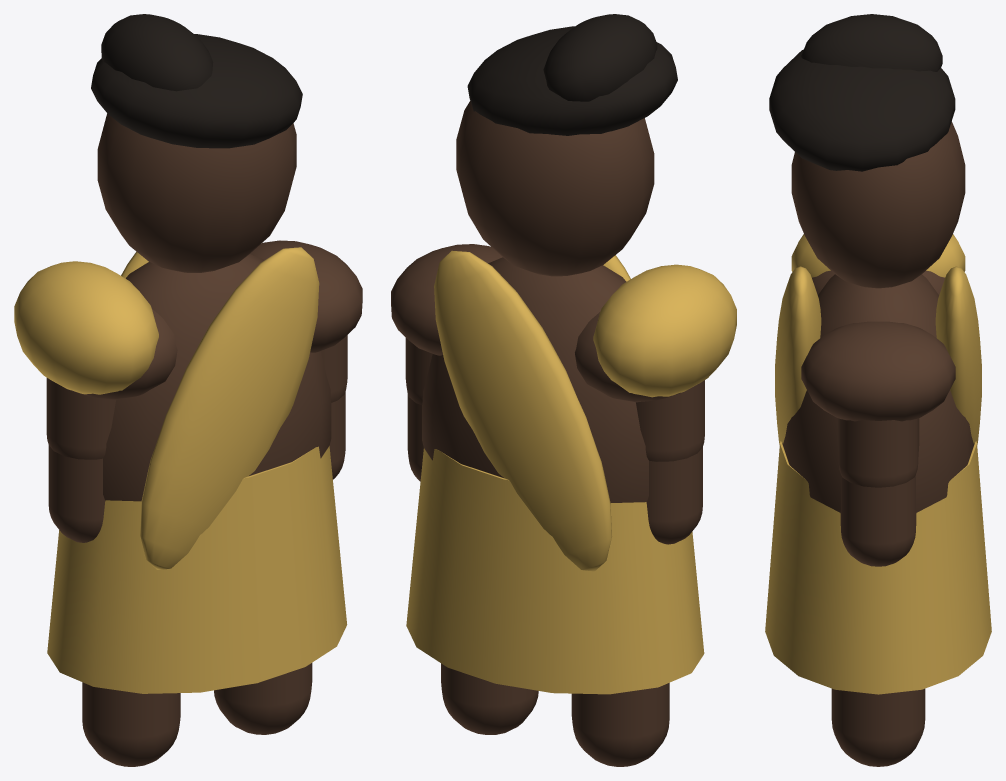
File: citizen_2.glb
3 renders of one model, left to right at view 1: azimuth 30°, elevation 25°; view 2: azimuth 150°, elevation 25°; view 3: azimuth 270°, elevation 25°, orthographic. The views are drawn at different scales.
Parts seen in each view (by area): view 1: RobeSkirt, _MeshInstance3D_2, HeadShape, Body, CoveredShoulder, HairCap, Shin, HairTuft, Shin2, RightShoulder, Forearm, PillArm (+3 smaller); view 2: RobeSkirt, DiagonalRobe, HeadShape, Body, CoveredShoulder, HairCap, HairTuft, Shin, Shin2, RightShoulder, Forearm, PillArm (+3 smaller); view 3: RobeSkirt, HeadShape, HairCap, Body, RightShoulder, Shin2, HairTuft, Forearm2, PillArm2, DiagonalRobe, _MeshInstance3D_2, CoveredShoulder (+1 smaller).
Boxes of the visible parts, <box> form: RobeSkirt: <box>47,446,347,693</box>; _MeshInstance3D_2: <box>140,247,319,569</box>; HeadShape: <box>97,113,296,272</box>; Body: <box>103,254,331,501</box>; CoveredShoulder: <box>14,261,158,394</box>; HairCap: <box>91,34,302,148</box>; Shin: <box>82,682,180,766</box>; HairTuft: <box>101,14,213,91</box>; Shin2: <box>214,663,312,734</box>; RightShoulder: <box>250,240,362,352</box>; Forearm: <box>48,445,105,542</box>; PillArm: <box>46,378,115,459</box>; RobeSkirt: <box>406,448,704,694</box>; DiagonalRobe: <box>434,250,611,571</box>; HeadShape: <box>456,100,654,276</box>; Body: <box>422,257,648,502</box>; CoveredShoulder: <box>593,264,736,397</box>; HairCap: <box>467,26,677,135</box>; HairTuft: <box>543,14,657,101</box>; Shin: <box>571,683,669,766</box>; Shin2: <box>441,663,538,734</box>; RightShoulder: <box>391,244,502,355</box>; Forearm: <box>646,447,702,544</box>; PillArm: <box>636,380,704,461</box>; RobeSkirt: <box>765,441,991,694</box>; HeadShape: <box>791,121,965,288</box>; HairCap: <box>769,49,955,171</box>; Body: <box>782,274,974,512</box>; RightShoulder: <box>801,321,955,421</box>; Shin2: <box>831,688,925,766</box>; HairTuft: <box>801,14,942,71</box>; Forearm2: <box>840,475,916,566</box>; PillArm2: <box>837,418,919,487</box>; DiagonalRobe: <box>935,266,981,444</box>; _MeshInstance3D_2: <box>775,266,821,444</box>; CoveredShoulder: <box>791,234,965,277</box>.
Bounding box in the file's own units: 0.5379 × 1.18 × 0.3496.
